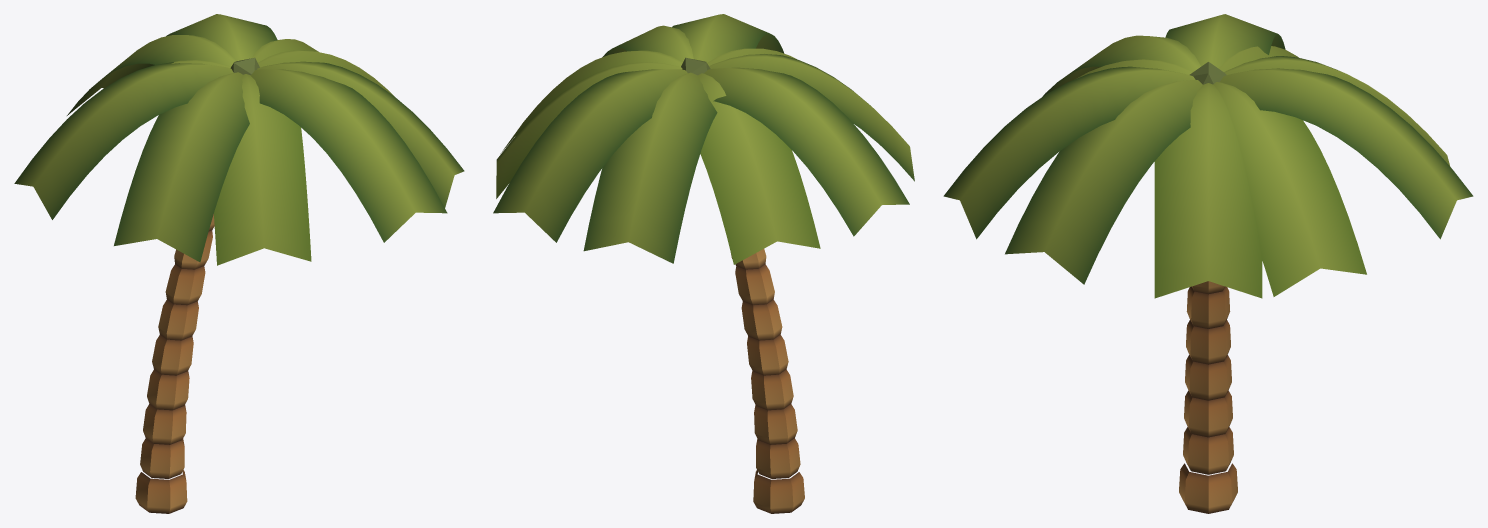
Rendered from palm-curved-v1.glb.
The picture shows the model from 3 angles, left to right: view 1: azimuth 30°, elevation 25°; view 2: azimuth 150°, elevation 25°; view 3: azimuth 270°, elevation 25°; orthographic projection. The views are drawn at different scales.
Parts seen in each view (by area): view 1: palm-curved-v1-fronds, palm-curved-v1-trunk; view 2: palm-curved-v1-fronds, palm-curved-v1-trunk; view 3: palm-curved-v1-fronds, palm-curved-v1-trunk.
Part boxes in pixels (x1,y1,x2,y2): palm-curved-v1-fronds: (14, 14, 464, 265); palm-curved-v1-trunk: (135, 57, 259, 513); palm-curved-v1-fronds: (493, 14, 914, 264); palm-curved-v1-trunk: (681, 57, 804, 513); palm-curved-v1-fronds: (943, 14, 1473, 298); palm-curved-v1-trunk: (1179, 62, 1237, 513).
Size of the model in its own units: 5.58 by 6.1 by 6.01.
